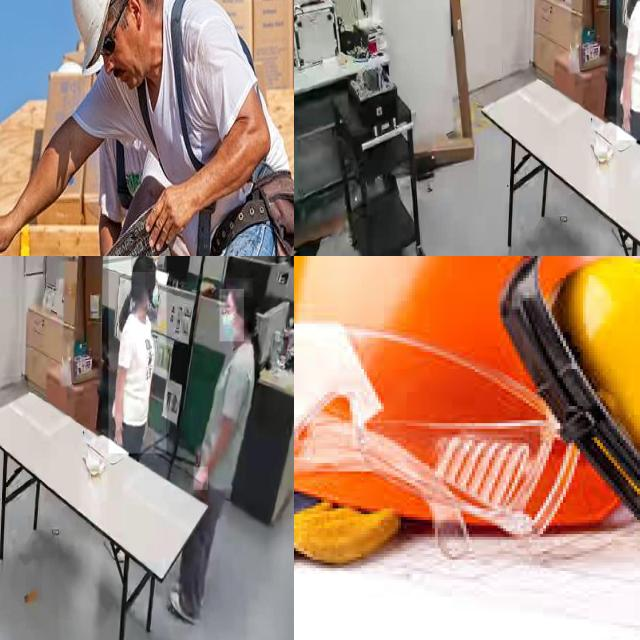Ear-protection: (494, 258, 640, 537)
Harness: (131, 0, 277, 256)
No_Ear-Protection: (127, 0, 145, 34)
face_mask: (220, 289, 244, 341), (146, 266, 162, 314)
glasses: (294, 321, 577, 554)
hand_noglove: (194, 466, 208, 491), (622, 105, 632, 132), (114, 418, 124, 445)
head_helmet: (294, 256, 640, 522)
head_nohelmet: (226, 278, 254, 298), (131, 256, 156, 272)
person: (177, 277, 265, 631), (108, 256, 167, 454), (616, 0, 640, 141)
shoes: (168, 588, 202, 626)
